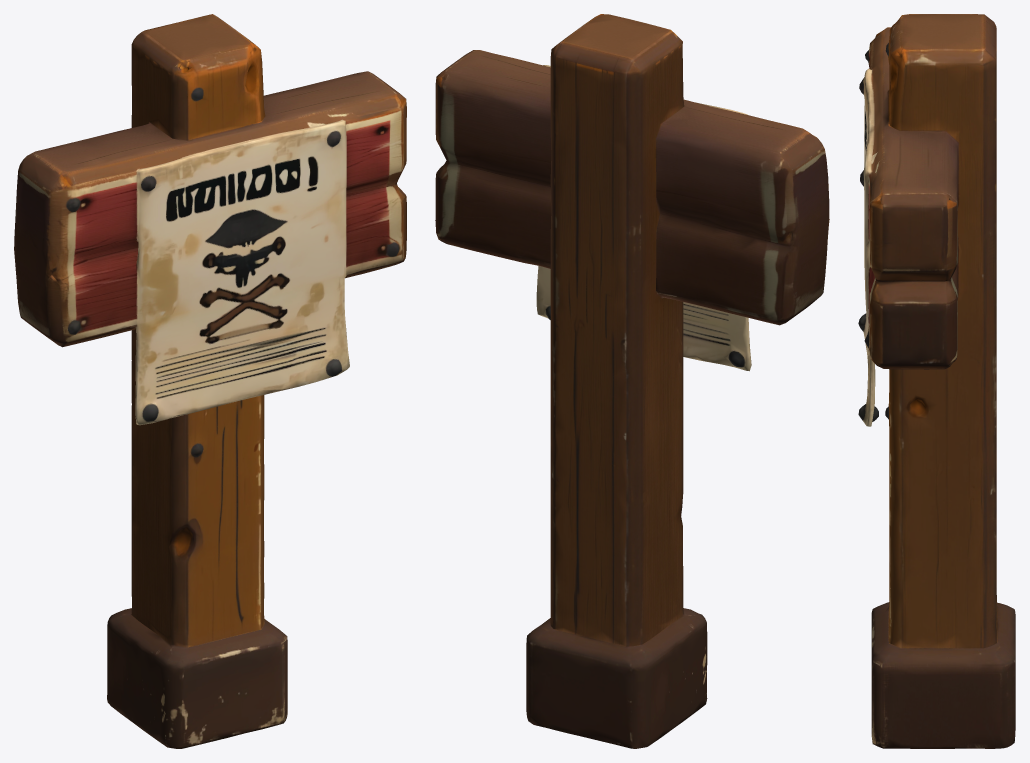
The model's file is signpost.glb.
3 views of the same model, side by side, from view 1: azimuth 30°, elevation 25°; view 2: azimuth 150°, elevation 25°; view 3: azimuth 270°, elevation 25° (orthographic). The views are drawn at different scales.
Visible parts, largest first — view 1: world; view 2: world; view 3: world.
Part boxes in pixels (left/top/right/bottom): world: left=14, top=14, right=406, bottom=748; world: left=435, top=14, right=829, bottom=748; world: left=858, top=14, right=1015, bottom=748.
Size of the model in its own units: 0.5631 by 1 by 0.2074.
1 material, 1 textured.
